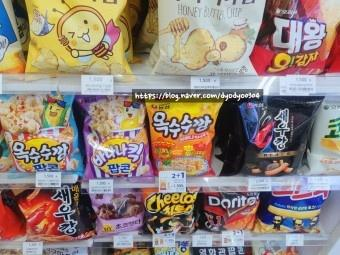snack: (219, 95, 326, 177), (75, 96, 153, 178), (145, 100, 224, 179)
